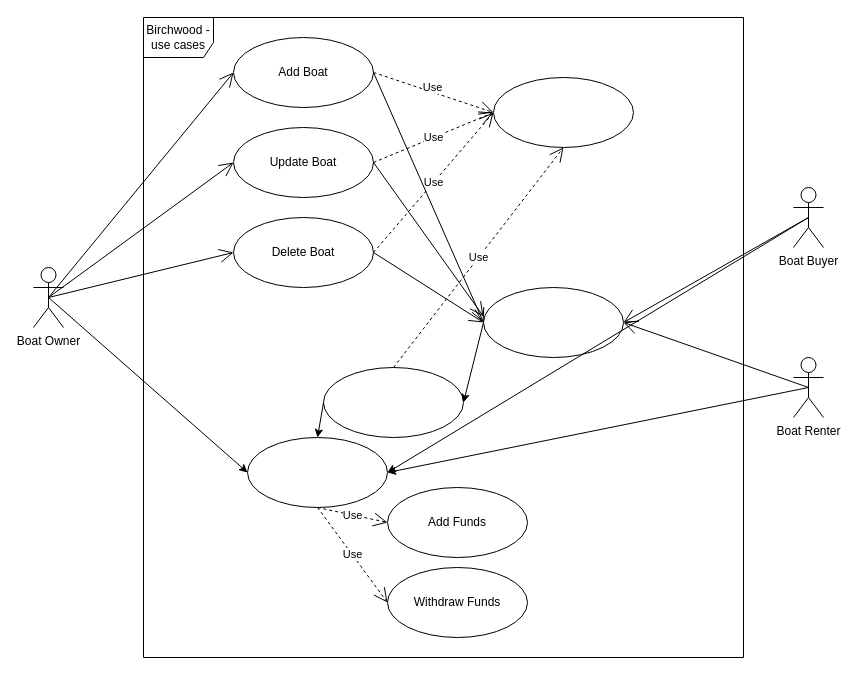
This 858x675 diagram has some shape labels left out. The box of each missing label's shape, as (x1, y1, x2, y2) in pixels:
Boat List: (482, 286, 624, 358)
Boat Payment: (322, 366, 464, 438)
Login: (492, 76, 634, 148)
Wallet: (246, 436, 388, 508)
